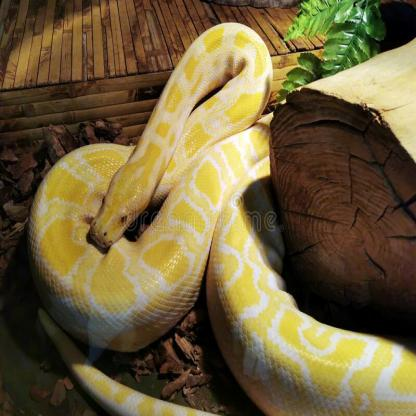Snake: (27, 20, 416, 416)
